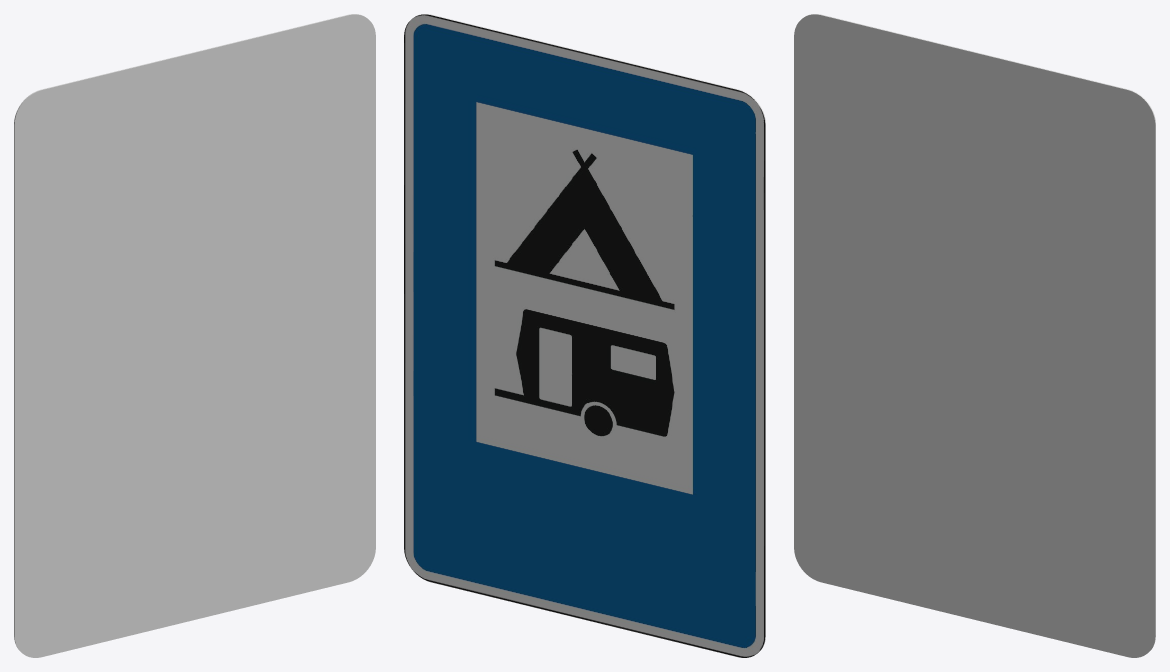
The model's file is 365-60alt.glb.
3 views of the same model, side by side, from view 1: azimuth 30°, elevation 25°; view 2: azimuth 150°, elevation 25°; view 3: azimuth 330°, elevation 25° (orthographic).
Parts seen in each view (by area): view 1: Plane; view 2: Plane; view 3: Plane.
Part boxes in pixels (x1,y1,x2,y2): Plane: (14, 14, 375, 657); Plane: (404, 14, 765, 657); Plane: (794, 14, 1155, 657).
Size of the model in its own units: 0.6 by 0.9 by 0.002.
Materials: 2 (1 with a texture image).
